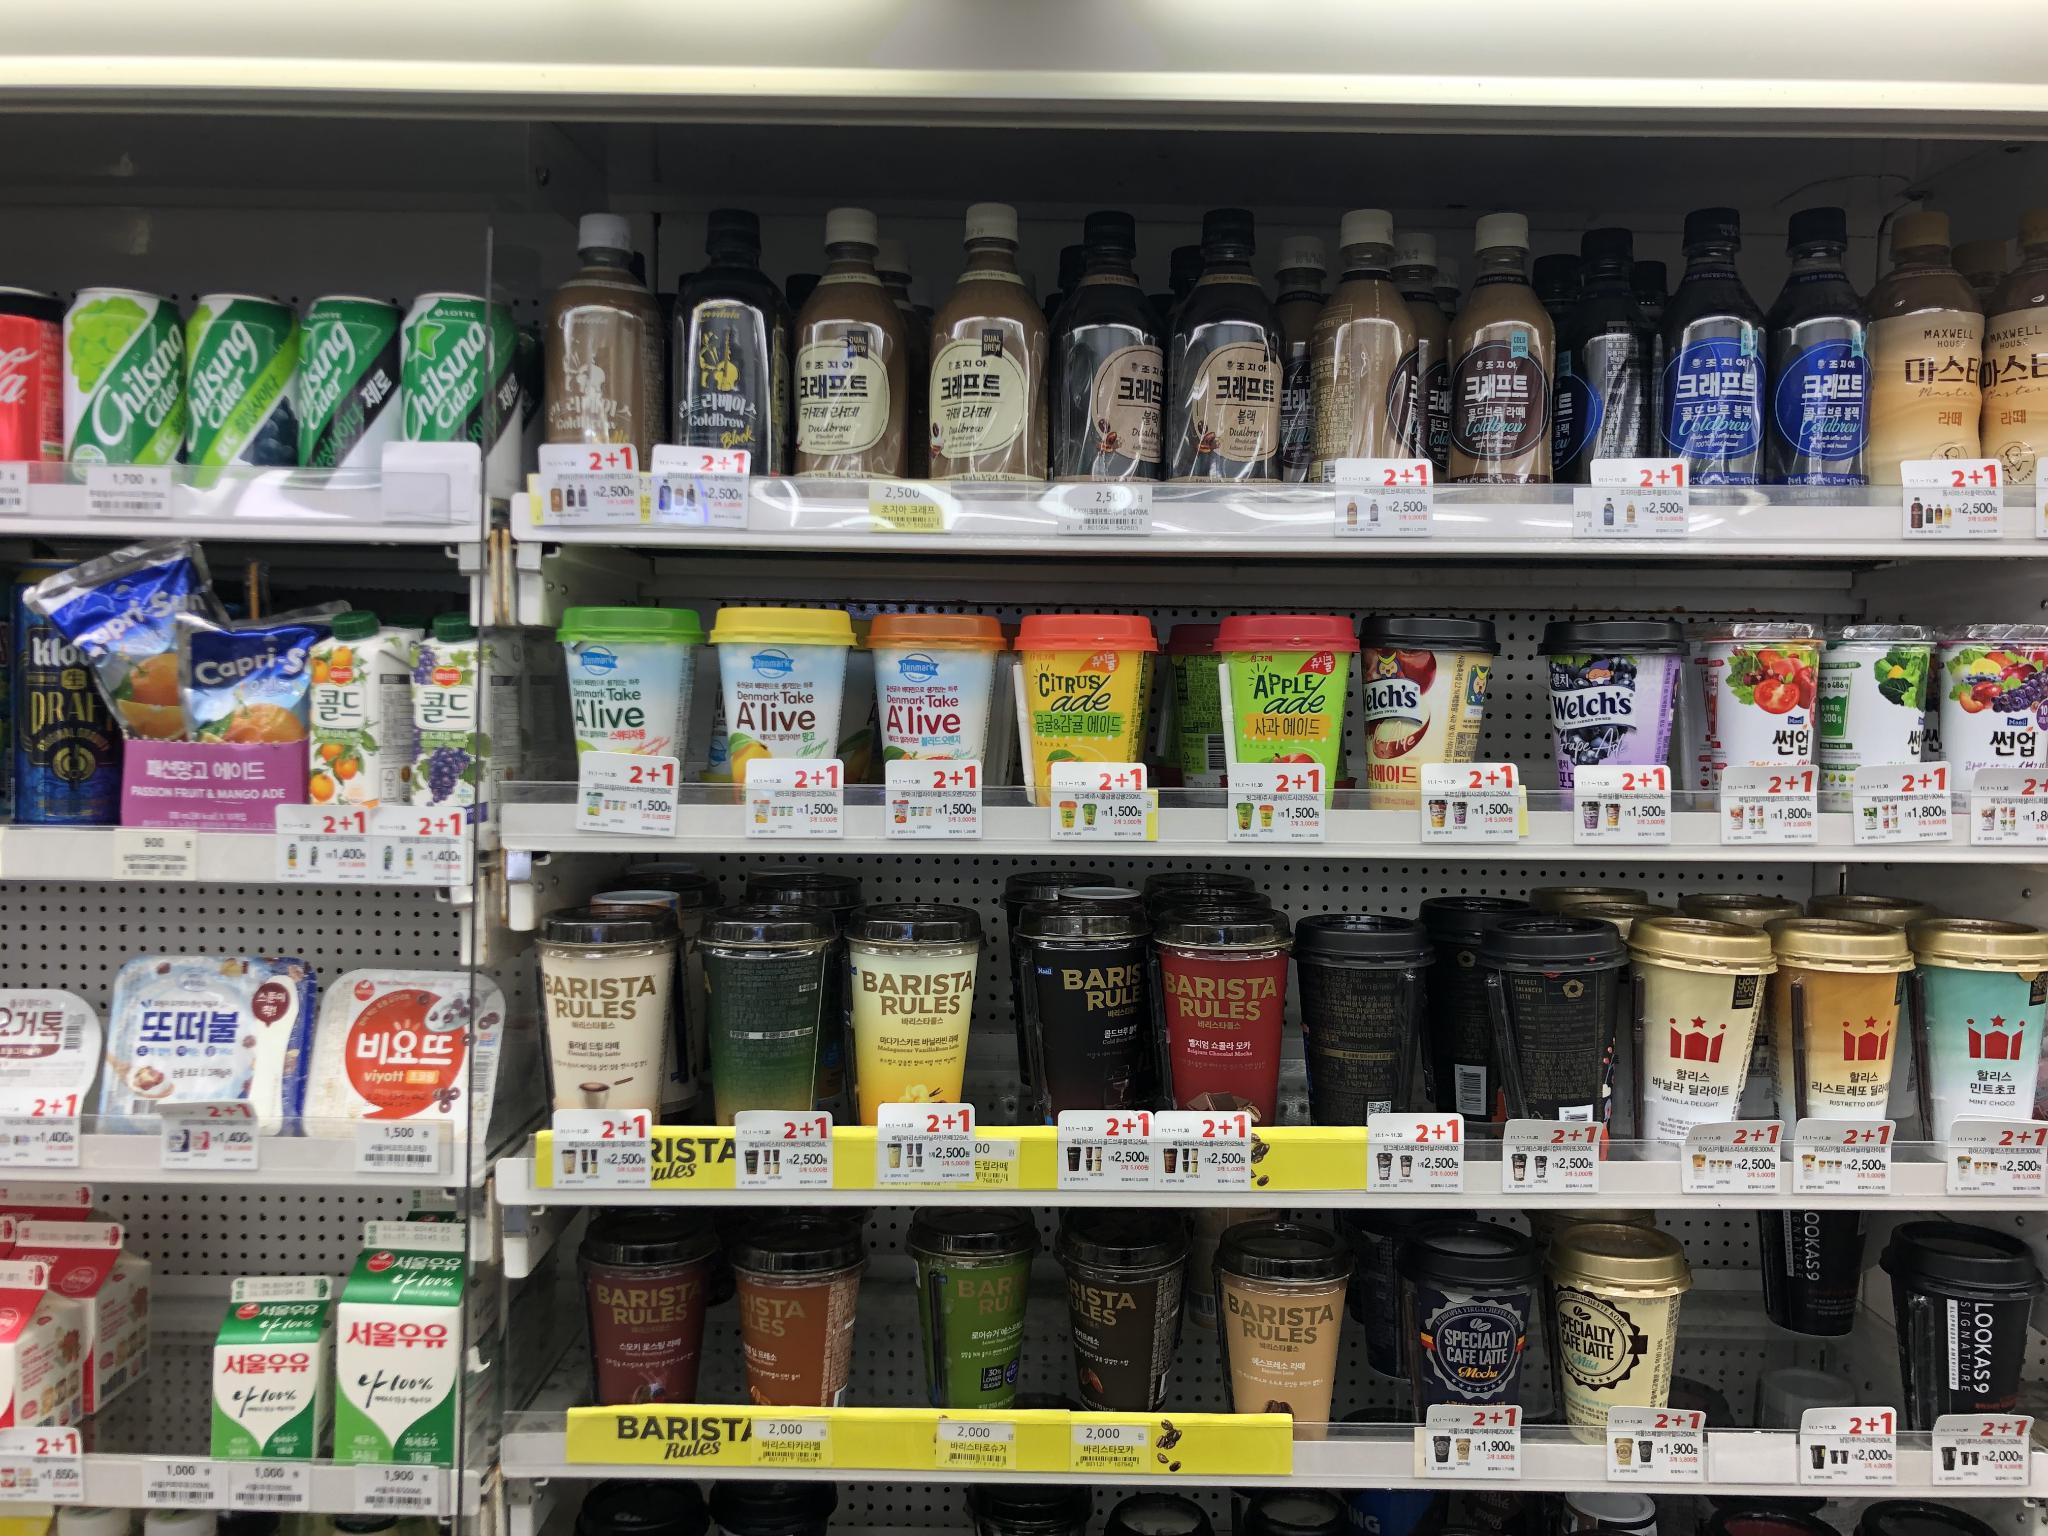baristarules_espressolatte: (1205, 1221, 1350, 1467)
georgiacraft_black: (1048, 207, 1172, 490), (1172, 208, 1290, 492)
